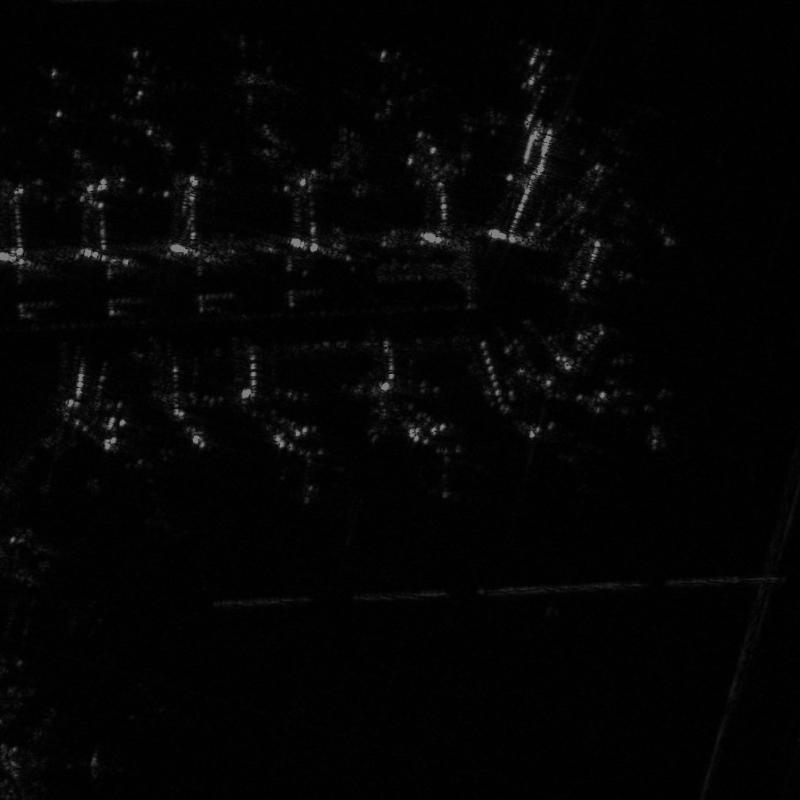A220: (34, 64, 102, 163)
A320/321: (345, 47, 440, 120), (222, 41, 304, 118), (491, 39, 580, 103), (414, 422, 484, 502)
Boeing787: (273, 427, 346, 512)
other: (115, 48, 200, 160)
